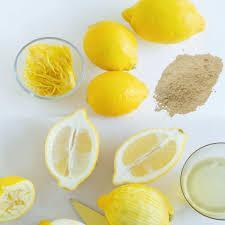lemon: (46, 107, 100, 191), (112, 128, 188, 186), (120, 0, 206, 43), (97, 183, 173, 225), (86, 70, 148, 118), (82, 20, 138, 71), (0, 176, 35, 222)
